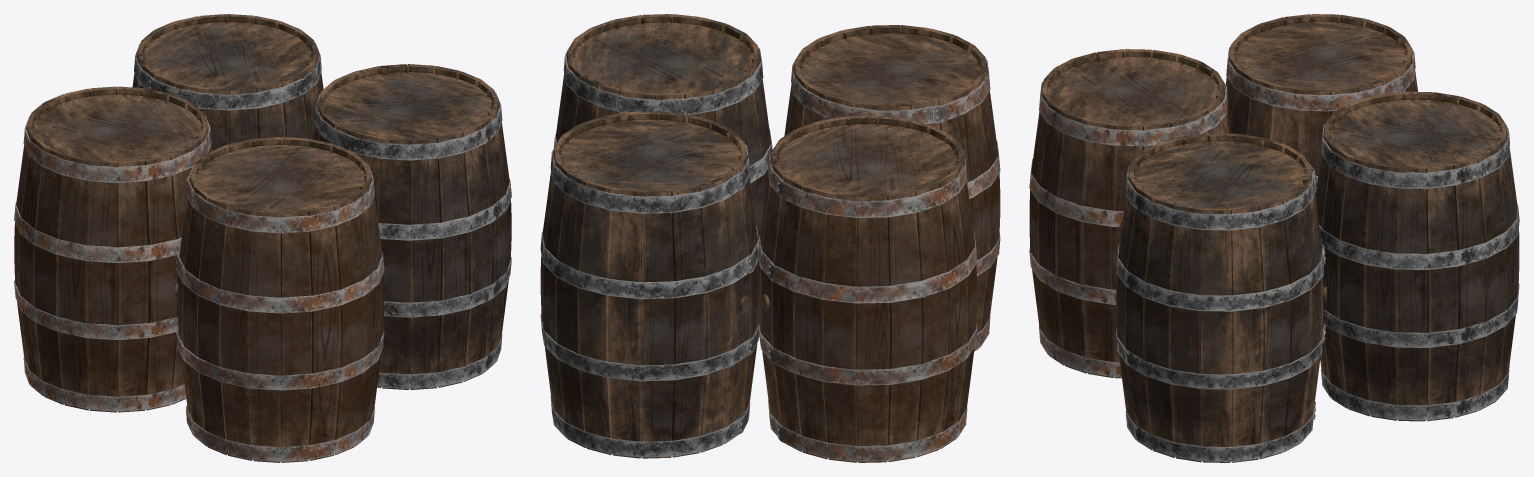
Rendered from beczki2.gltf.
The picture shows the model from 3 angles, left to right: view 1: azimuth 30°, elevation 25°; view 2: azimuth 150°, elevation 25°; view 3: azimuth 270°, elevation 25°; orthographic projection. The views are drawn at different scales.
Visible parts, largest first — view 1: SM_MERGED_StaticMeshActor_UAID_581122BC1080983702_2046590366; view 2: SM_MERGED_StaticMeshActor_UAID_581122BC1080983702_2046590366; view 3: SM_MERGED_StaticMeshActor_UAID_581122BC1080983702_2046590366.
Boxes of the visible parts, x1,y1,x2,y2 form: SM_MERGED_StaticMeshActor_UAID_581122BC1080983702_2046590366: (14,14,511,462); SM_MERGED_StaticMeshActor_UAID_581122BC1080983702_2046590366: (540,14,1000,462); SM_MERGED_StaticMeshActor_UAID_581122BC1080983702_2046590366: (1029,14,1519,462).
Bounding box in the file's own units: 3.11 × 1.77 × 3.11.
Materials: 2 (2 with a texture image).
